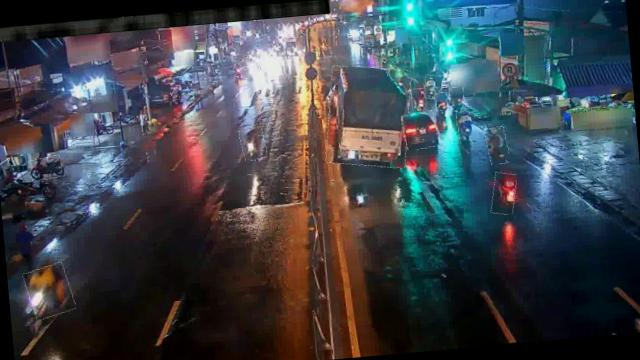Bike: (24, 263, 74, 319), (489, 172, 518, 216), (240, 126, 268, 161), (486, 126, 510, 165), (29, 155, 63, 181), (456, 112, 474, 144), (424, 75, 444, 100), (411, 88, 428, 116), (449, 87, 466, 110), (435, 92, 449, 115)
Car: (402, 111, 438, 151)
Truck: (321, 62, 416, 172)
